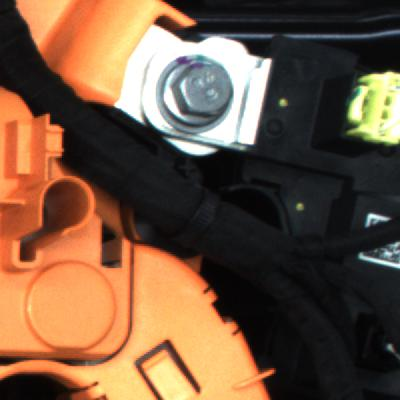nut_b: (145, 51, 251, 145)
